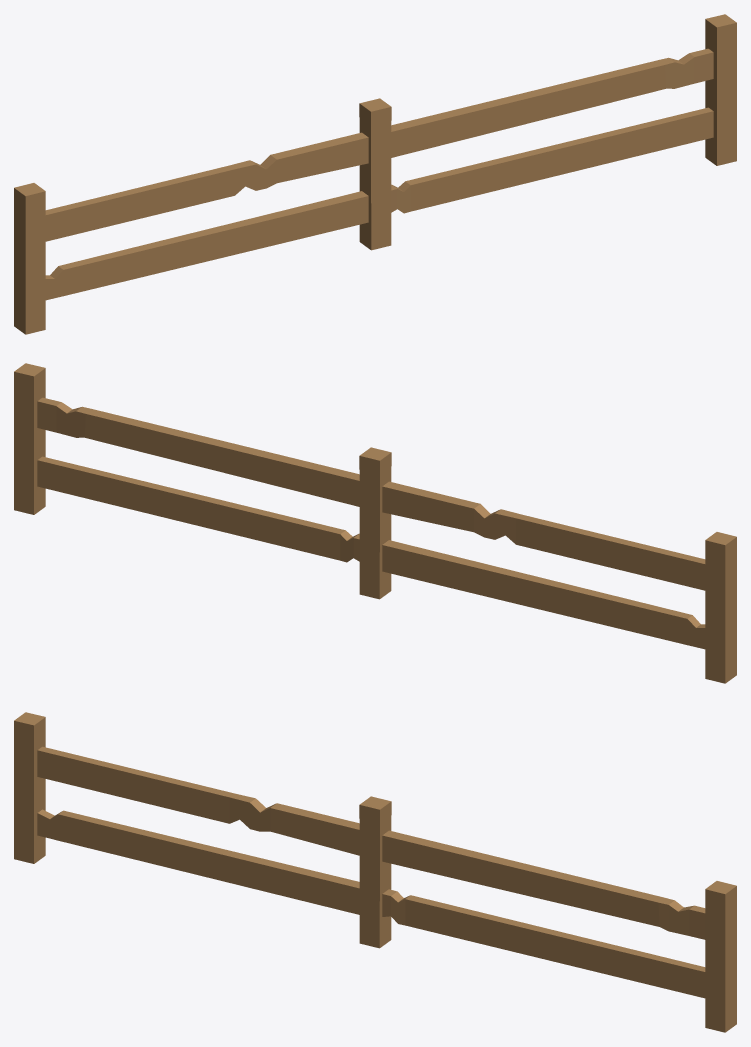
File: fence-0.glb
3 views of the same model, one above another, from view 1: azimuth 30°, elevation 25°; view 2: azimuth 150°, elevation 25°; view 3: azimuth 330°, elevation 25° (orthographic).
Visible parts, largest first — view 1: fence-0; view 2: fence-0; view 3: fence-0.
Part boxes in pixels (x1=…): fence-0: x1=14, y1=14, x2=736, y2=334; fence-0: x1=14, y1=363, x2=736, y2=683; fence-0: x1=14, y1=712, x2=736, y2=1032.
Bounding box in the file's own units: 1 × 0.1863 × 0.0283.
